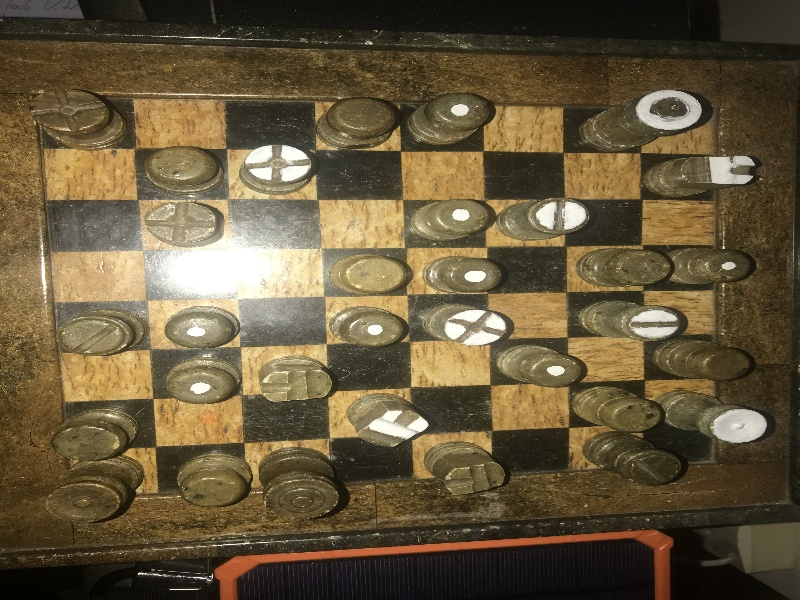WhiteBishop: (239, 144, 311, 194), (419, 304, 505, 345)
WhitePawn: (407, 93, 489, 146), (498, 345, 581, 387), (164, 358, 241, 403), (408, 201, 488, 242), (166, 307, 238, 348), (669, 247, 748, 284), (328, 307, 402, 345), (423, 258, 499, 294)
WhiteRook: (577, 301, 679, 341), (498, 200, 590, 240)
